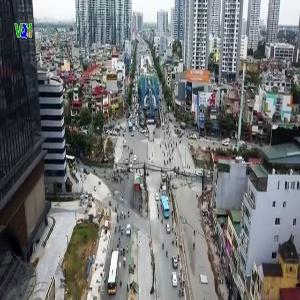drone: (64, 189, 123, 248)
